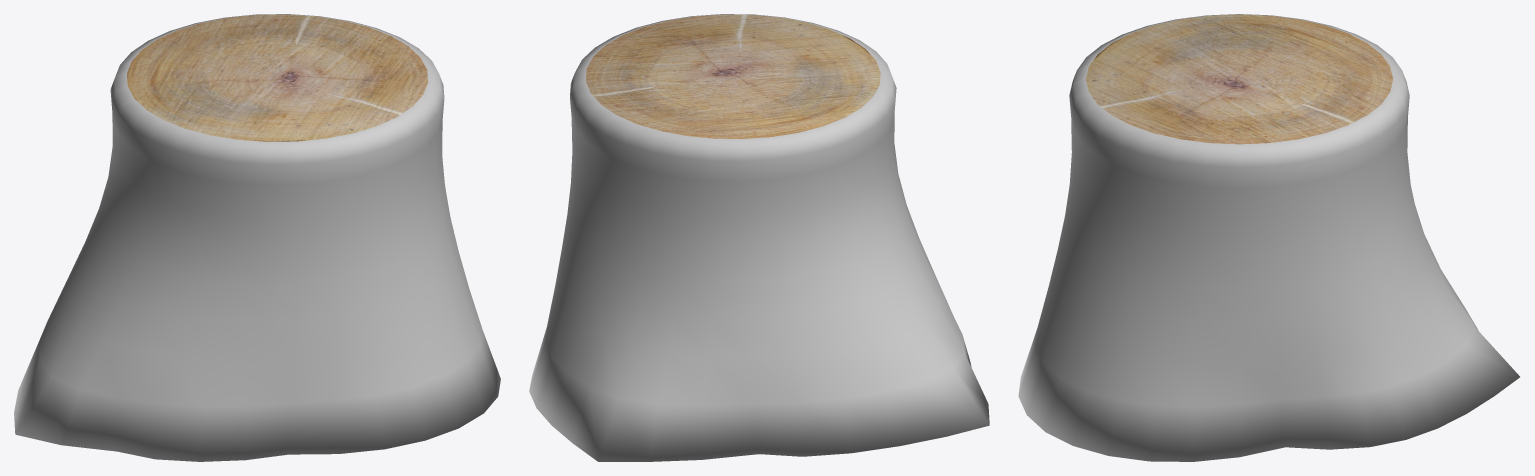
File: stump.fbx
3 renders of one model, left to right at view 1: azimuth 30°, elevation 25°; view 2: azimuth 150°, elevation 25°; view 3: azimuth 270°, elevation 25°, orthographic. The views are drawn at different scales.
Visible parts, largest first — view 1: stump; view 2: stump; view 3: stump.
Part boxes in pixels (<box>): stump: <box>14,14,500,461</box>; stump: <box>529,14,989,461</box>; stump: <box>1018,14,1519,461</box>.
Bounding box in the file's own units: 102 × 66 × 101.
